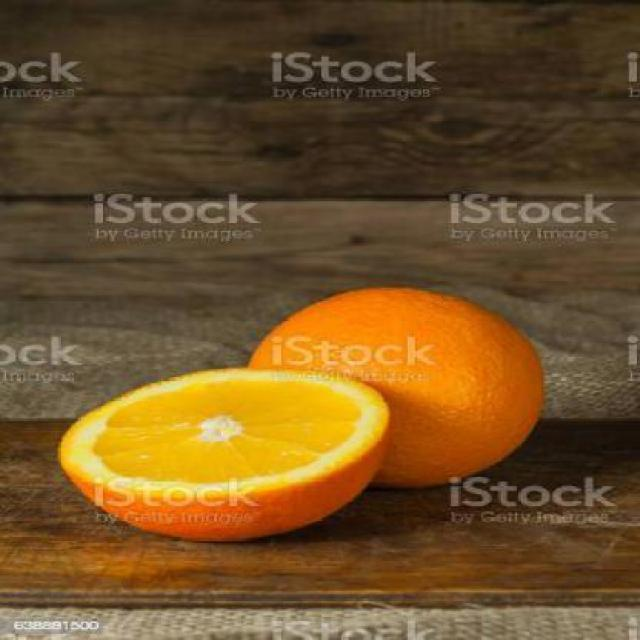Jeruk Sudah Matang: (242, 286, 548, 486)
